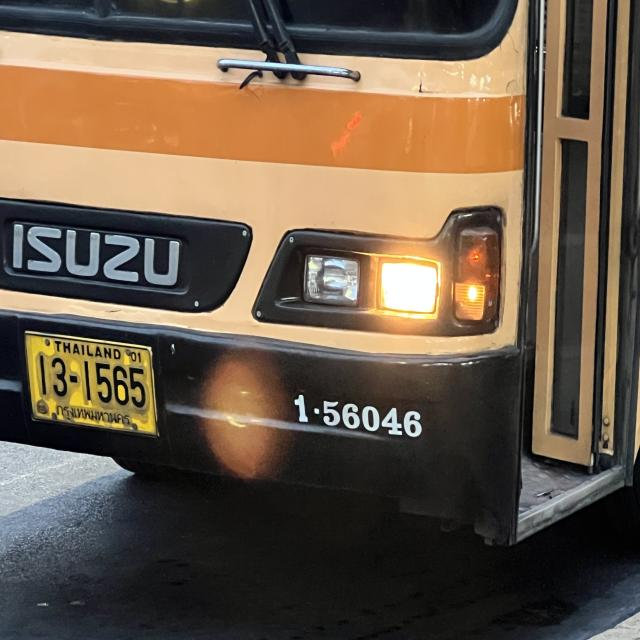BMTA-bus: (0, 0, 640, 555)
